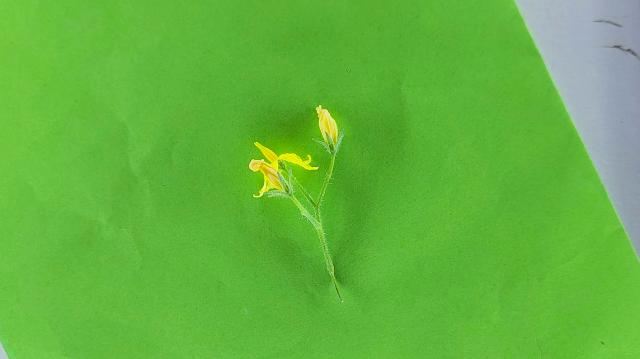Anthesis: (248, 141, 318, 199), (316, 104, 339, 150)
